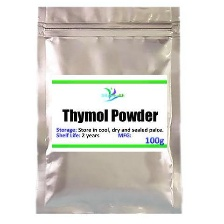insecticide: (31, 2, 184, 219)
